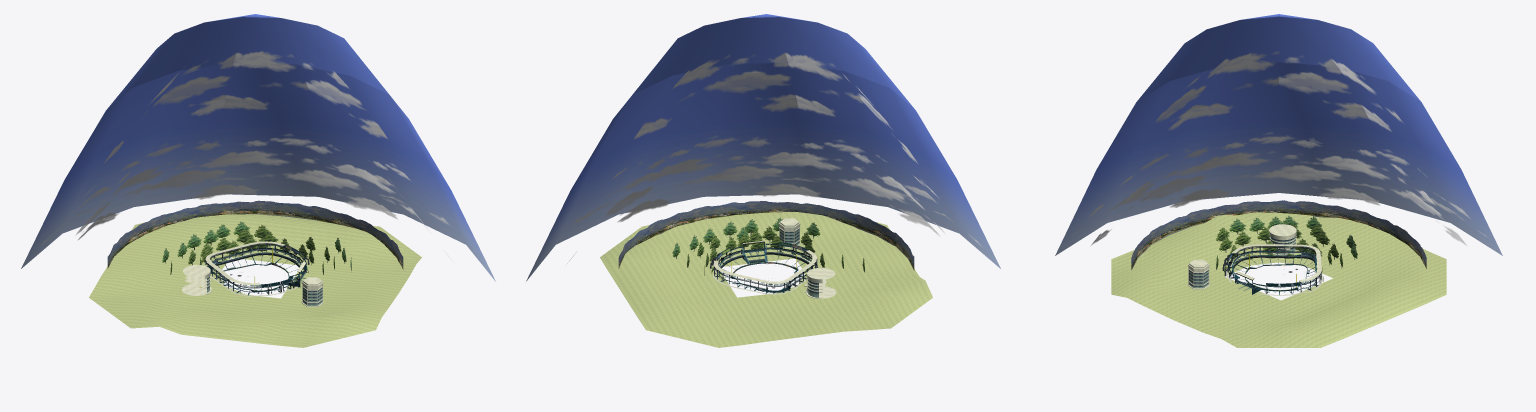
The model's file is bbl_Field_a__bbl_Field_a.glb.
The picture shows the model from 3 angles, left to right: view 1: azimuth 30°, elevation 25°; view 2: azimuth 150°, elevation 25°; view 3: azimuth 270°, elevation 25°; orthographic projection.
Visible parts, largest first — view 1: polygon3, polygon34, polygon0, polygon367, polygon391, polygon2, polygon31, polygon61; view 2: polygon3, polygon34, polygon0, polygon367, polygon391, polygon2, polygon31, polygon61; view 3: polygon3, polygon34, polygon0, polygon367, polygon391, polygon2, polygon31.
Part boxes in pixels (x1,y1,x2,y2): polygon3: (21, 14, 495, 281); polygon34: (89, 214, 421, 347); polygon0: (76, 51, 454, 263); polygon367: (107, 200, 403, 305); polygon391: (162, 221, 351, 274); polygon2: (39, 134, 448, 247); polygon31: (205, 244, 306, 294); polygon61: (206, 243, 304, 292); polygon3: (526, 14, 1000, 281); polygon34: (600, 212, 932, 347); polygon0: (567, 52, 944, 263); polygon367: (618, 201, 914, 297); polygon391: (672, 217, 864, 275); polygon2: (573, 135, 982, 247); polygon31: (714, 241, 817, 293); polygon61: (715, 244, 815, 289); polygon3: (1055, 14, 1502, 255); polygon34: (1111, 212, 1446, 347); polygon0: (1091, 51, 1466, 245); polygon367: (1131, 200, 1426, 288); polygon391: (1216, 215, 1357, 281); polygon2: (1071, 132, 1486, 236); polygon31: (1227, 246, 1321, 294).
Bounding box in the file's own units: 8178 × 5235 × 8178.
Materials: 30 (30 with a texture image).
